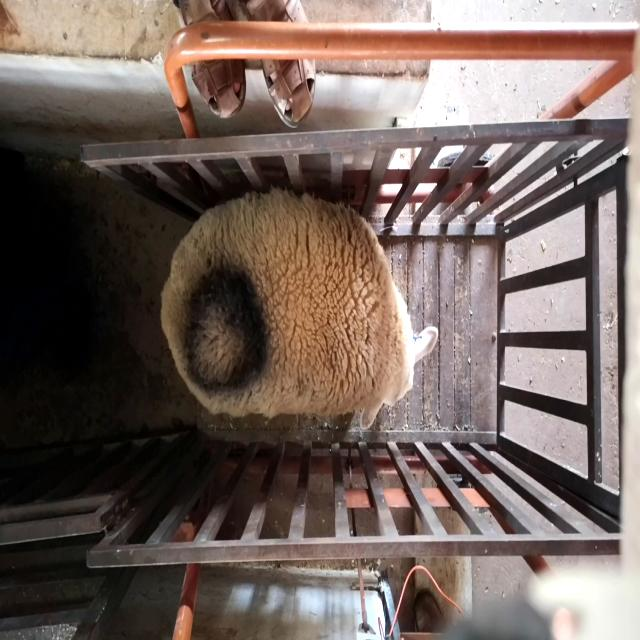sheep: (160, 187, 439, 430)
